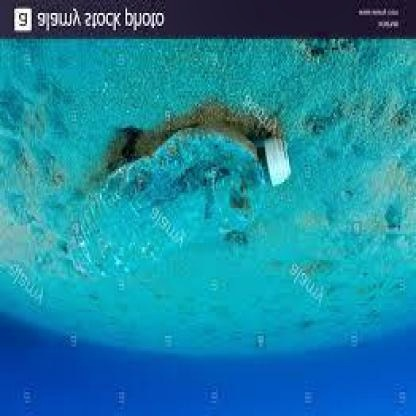pbottle: (51, 124, 294, 286)
